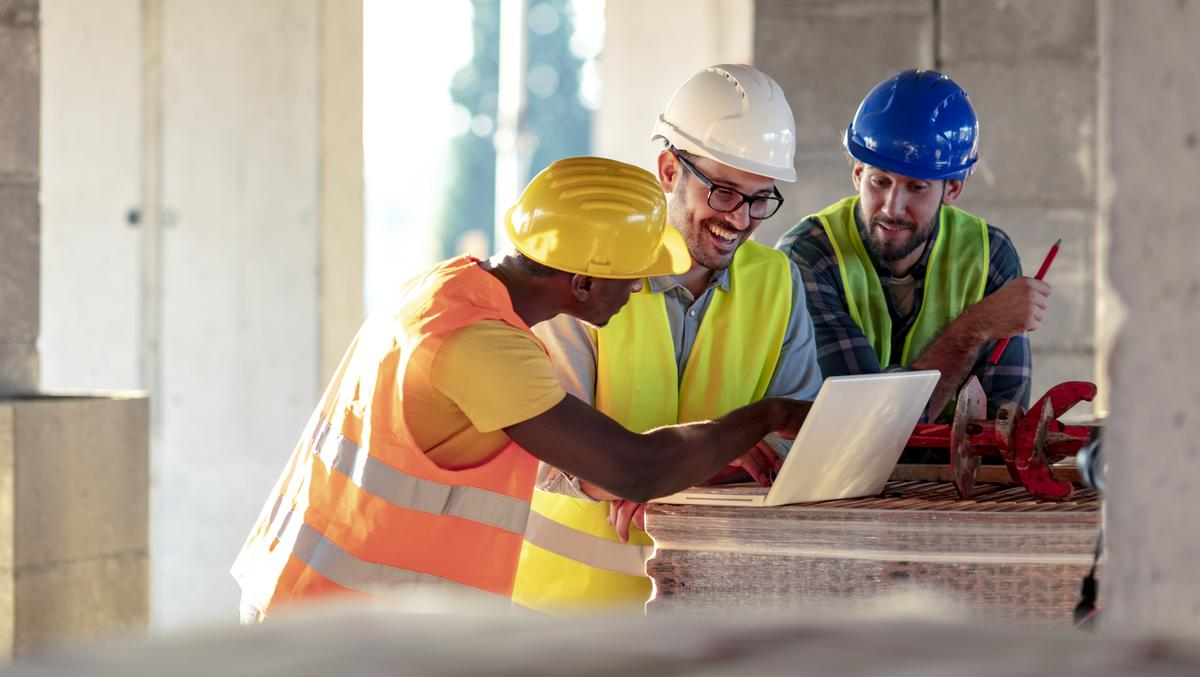hard hat: (506, 154, 692, 277), (653, 64, 800, 184), (848, 69, 980, 178)
high-vis: (230, 254, 553, 621), (509, 235, 797, 614), (809, 192, 992, 402)
